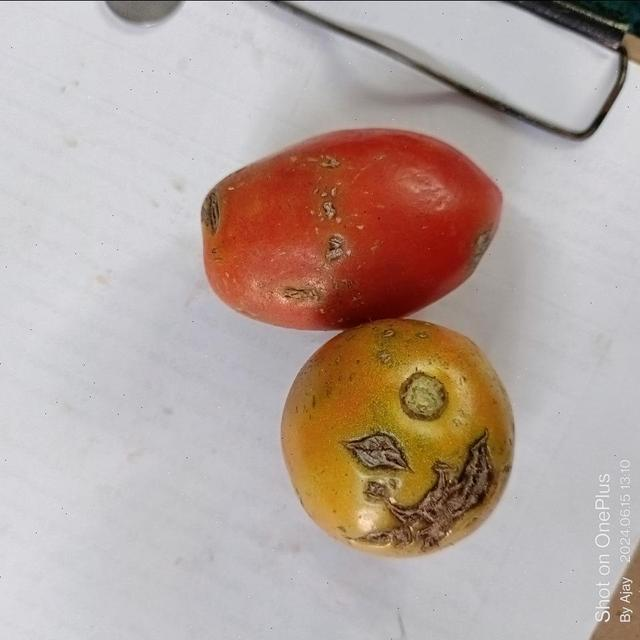Bacterial Spot Fruit: (14, 12, 283, 326)
